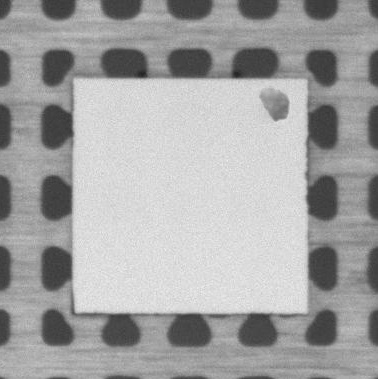DIE_INK: (260, 87, 289, 122)
